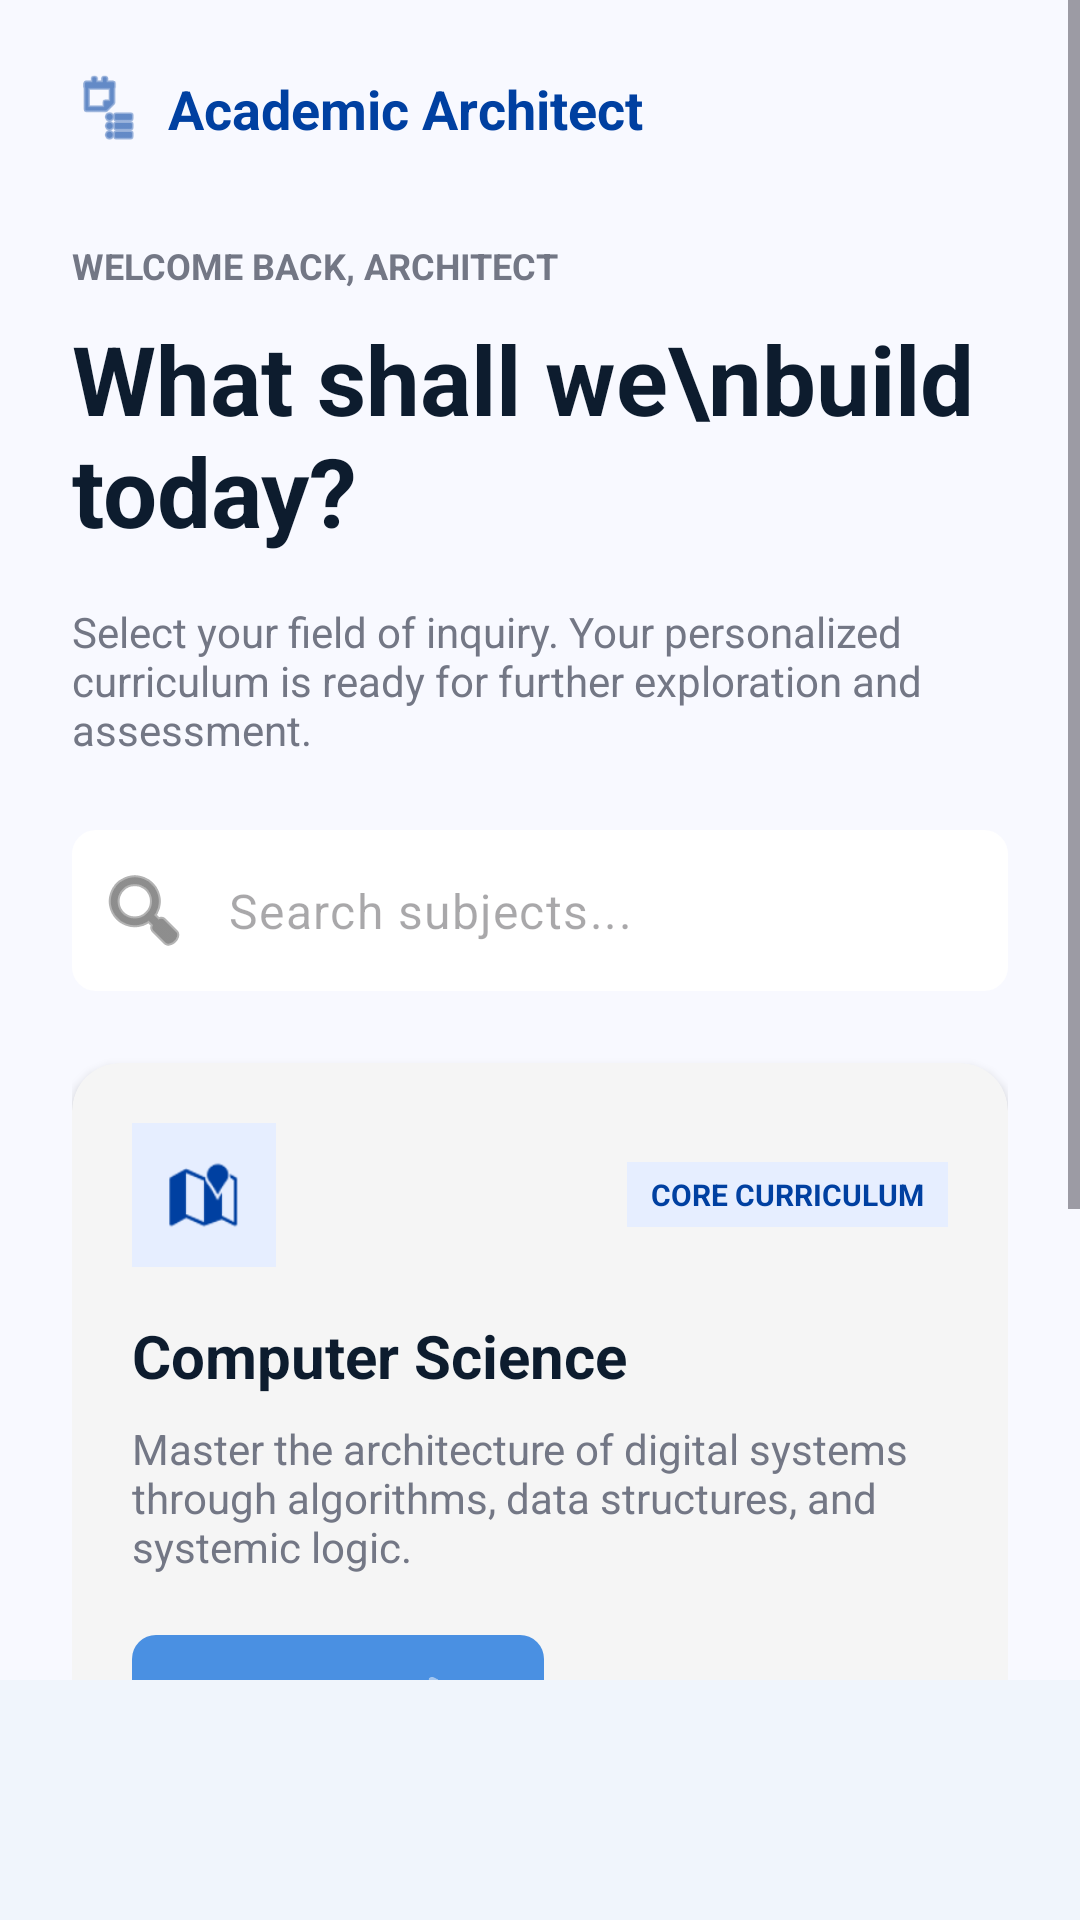

Icons on this 1080x1920 Android screen, each with the point to tap as [x,y]:
agenda: [108,108]
map: [203,1195]
